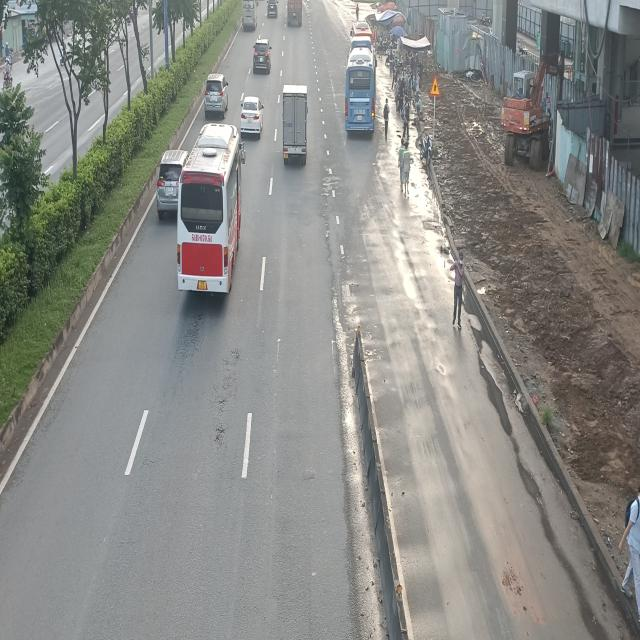car: (157, 149, 191, 218), (204, 72, 230, 117), (240, 94, 266, 138), (252, 38, 271, 74)
coach: (176, 124, 247, 298), (344, 39, 376, 138)
truck: (280, 83, 308, 162)
